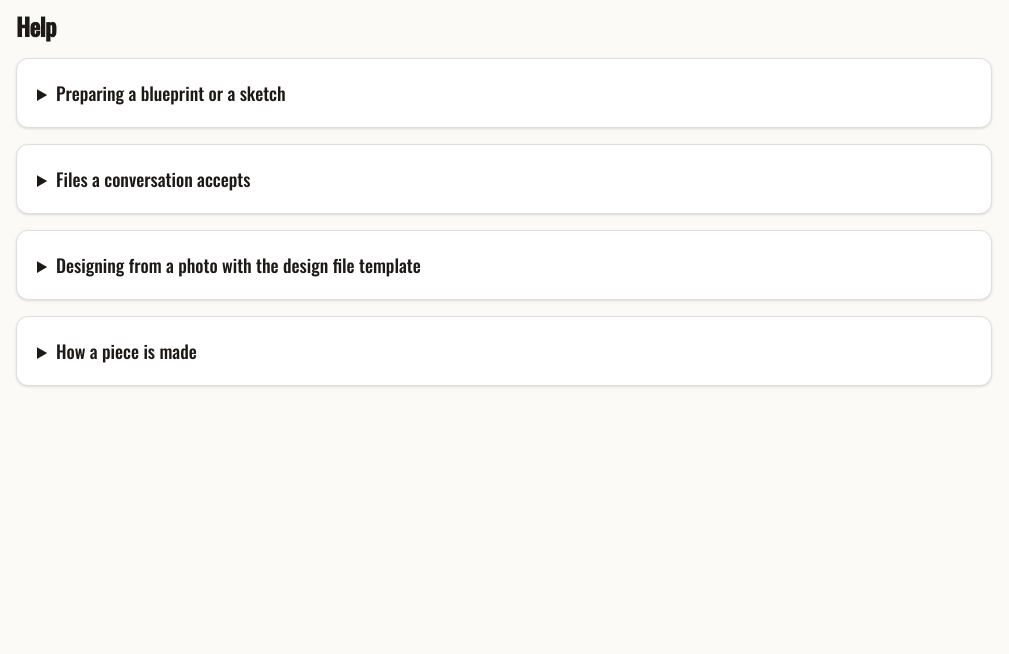
Test case: Copy puts the exact prompt on the clipboard and confirms it
Click the heading "Designing from a photo with the design file template" at (238, 265), box left=56, top=252, right=421, bottom=278
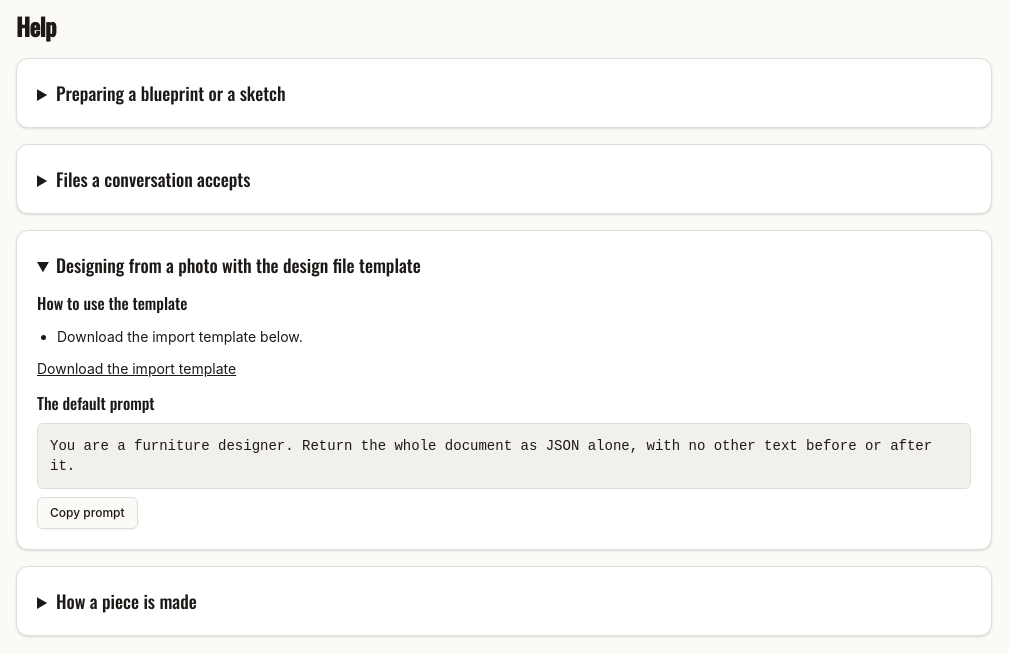
Click the button "Copy prompt" at (87, 513), box left=37, top=497, right=138, bottom=529
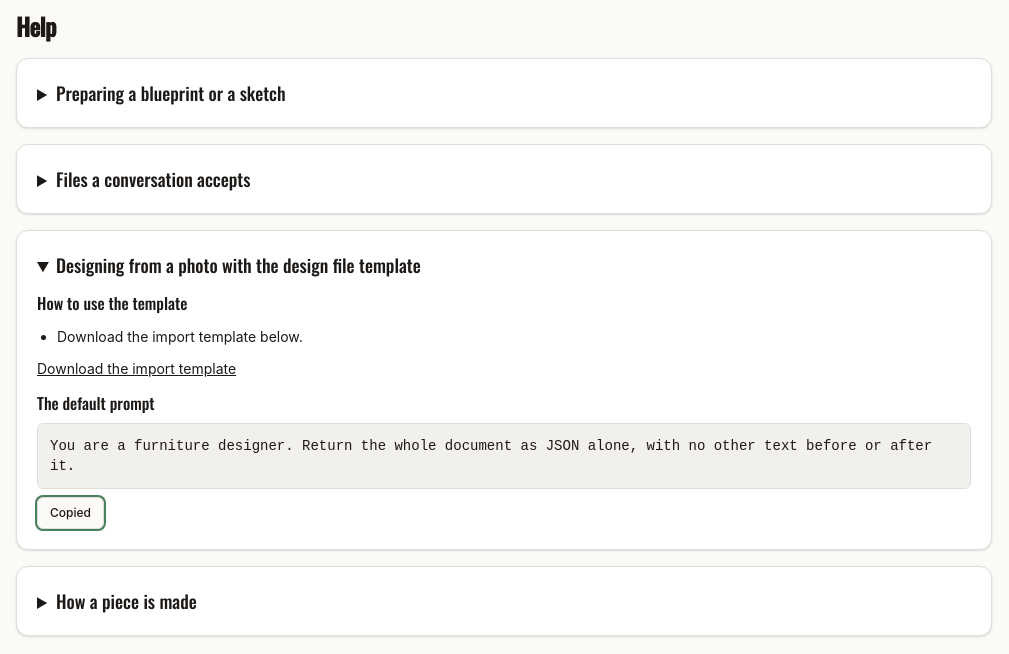
Check: the button "Copied" is shown, box left=37, top=497, right=104, bottom=529
